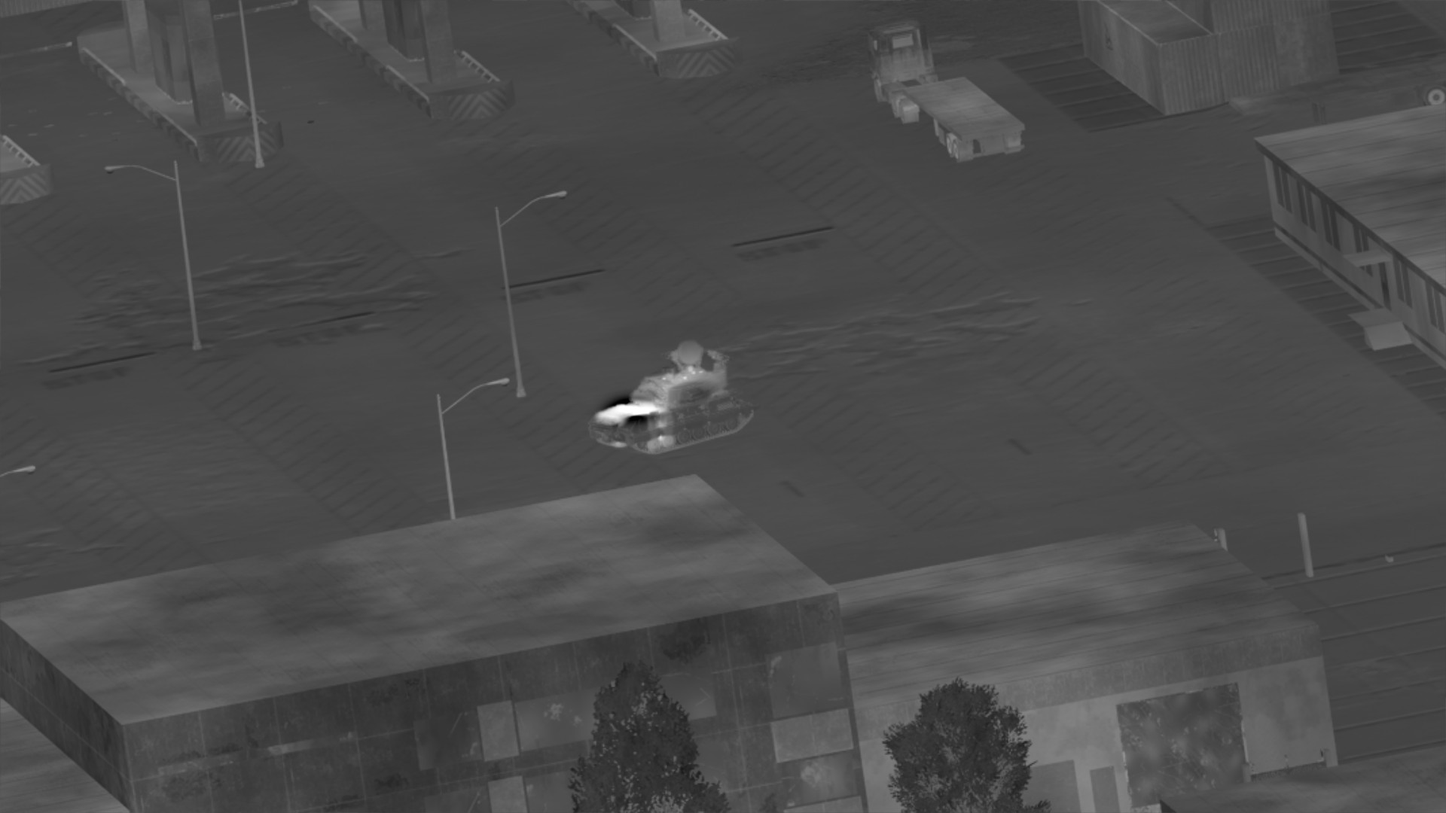spaa_zsu-23: (588, 341, 756, 456)
